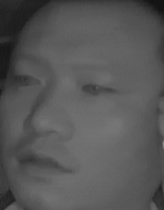eye: (77, 77, 117, 101), (13, 68, 42, 90)
mouth: (17, 142, 77, 181)
